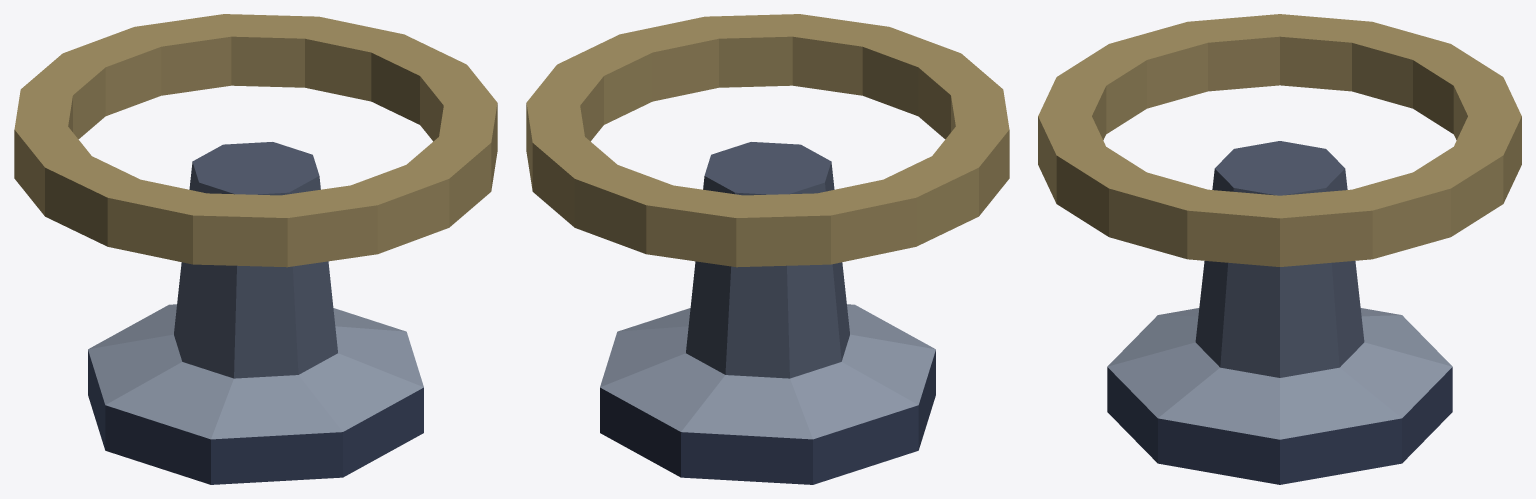
The model's file is ring-pedestal.glb.
The picture shows the model from 3 angles, left to right: view 1: azimuth 30°, elevation 25°; view 2: azimuth 150°, elevation 25°; view 3: azimuth 270°, elevation 25°; orthographic projection.
Visible parts, largest first — view 1: ring-pedestal__body; view 2: ring-pedestal__body; view 3: ring-pedestal__body.
Part boxes in pixels (x1,y1,x2,y2): ring-pedestal__body: (14,14,497,484); ring-pedestal__body: (526,14,1009,484); ring-pedestal__body: (1038,14,1521,484).
Bounding box in the file's own units: 1.26 × 0.85 × 1.26.
